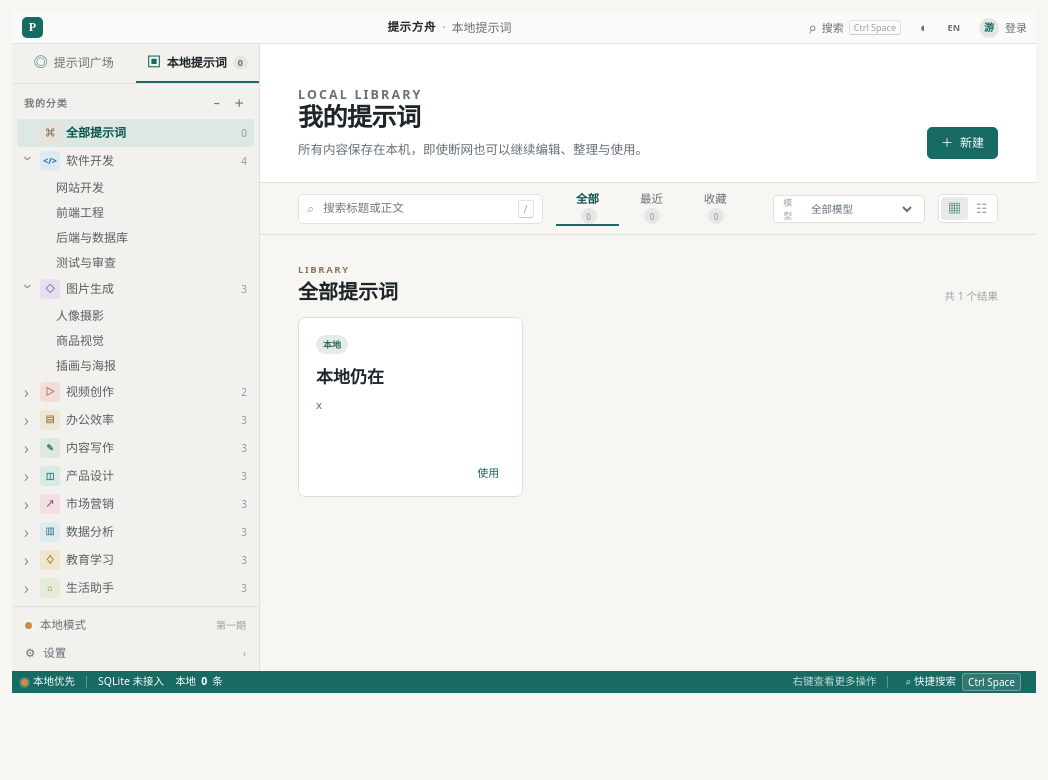
WorkbenchShell › shows a non-blocking offline notice and can return to local
Click the tab "◎ 提示词广场" at (74, 64), box [12,44,136,83]
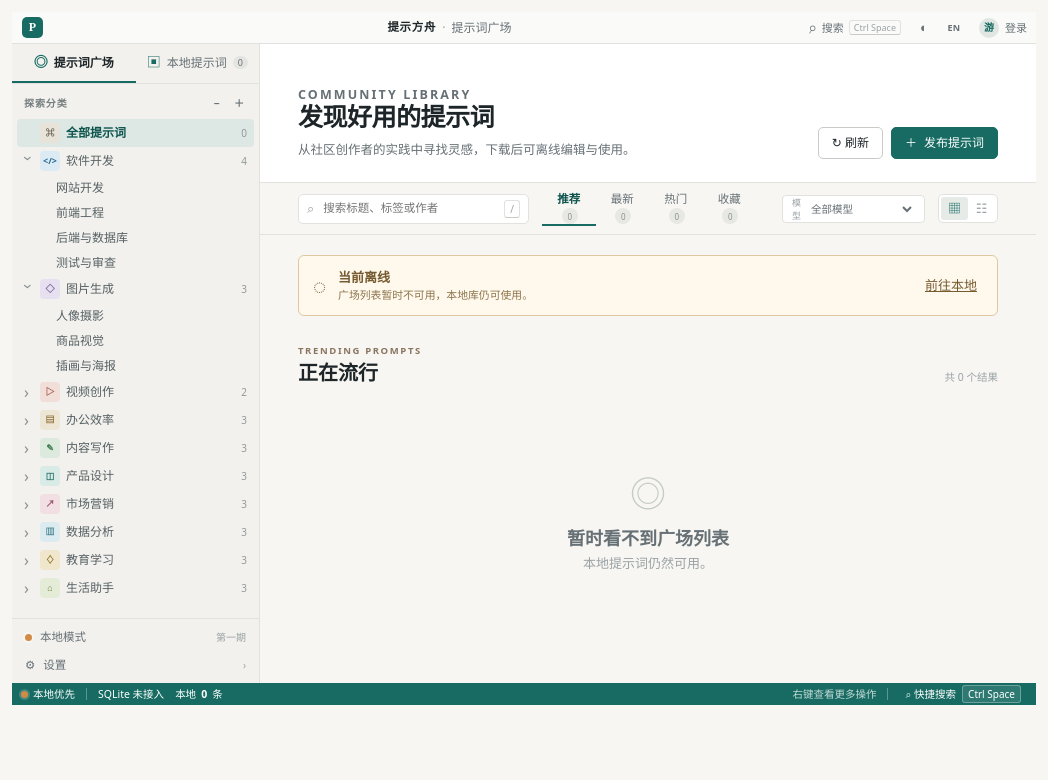
expect the element with test id "square-offline" shows "离线": met, box [298,256,998,316]
expect the button with test id "go-local" is shown: met
Click the button with test id "go-local" at (951, 286), box [919,275,983,296]
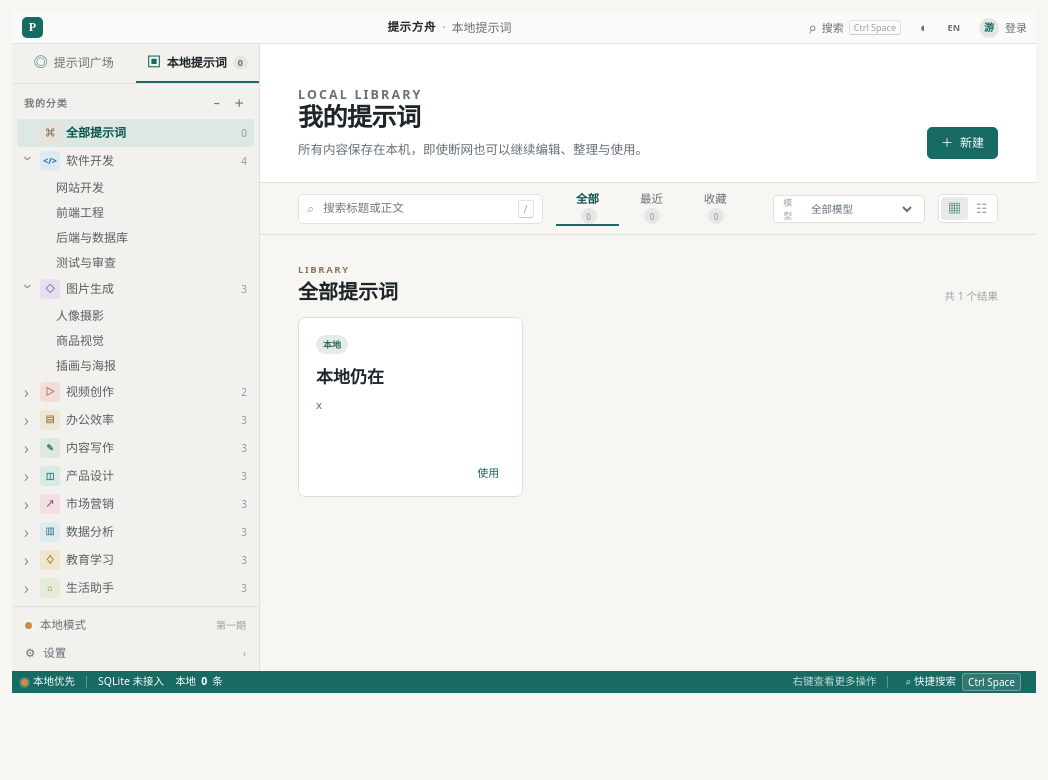
expect the text "本地仍在" is shown: met, box [316,368,384,387]
